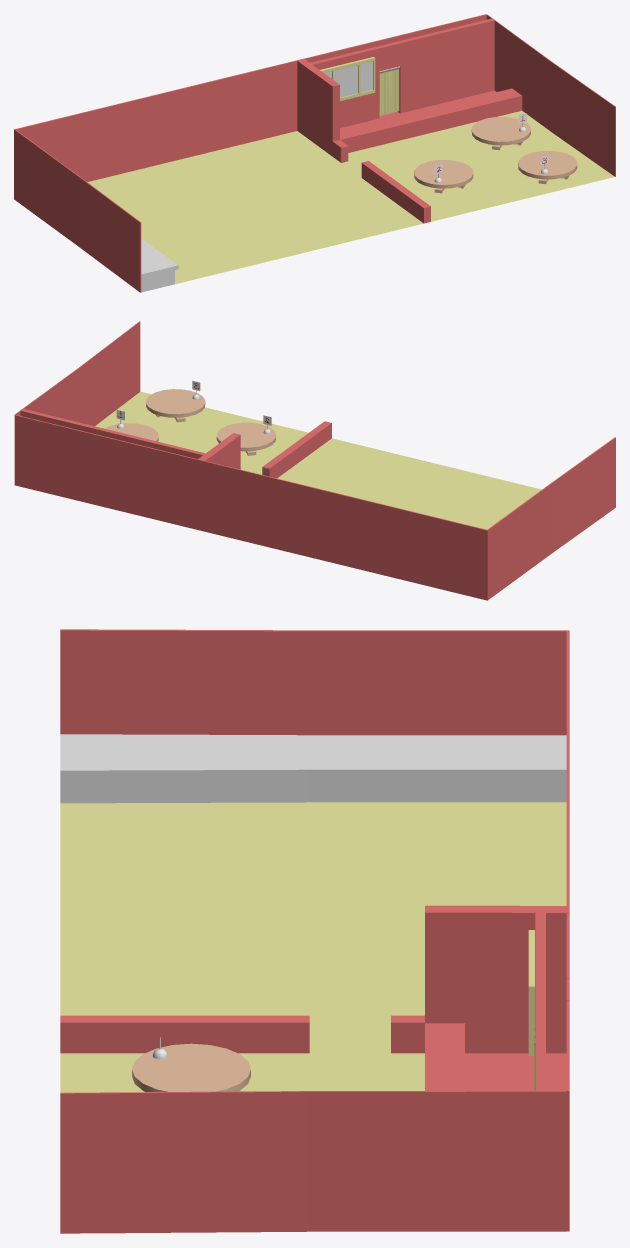
Rendered from overseasoned map 1.fbx.
3 renders of one model, top to bottom at view 1: azimuth 30°, elevation 25°; view 2: azimuth 150°, elevation 25°; view 3: azimuth 270°, elevation 25°, orthographic. The views are drawn at different scales.
Visible parts, largest first — view 1: pCube3, pCylinder3, pCylinder4, pCylinder5, pPlane2; view 2: pCube3, pCylinder5, pCylinder4, pCylinder3; view 3: pCube3, pCylinder4.
Part boxes in pixels (x1,y1,x2,y2): pCube3: (14, 14, 615, 292); pCylinder3: (471, 116, 530, 150); pCylinder4: (414, 160, 473, 193); pCylinder5: (518, 150, 577, 184); pPlane2: (379, 68, 399, 115); pCube3: (14, 321, 615, 600); pCylinder5: (146, 389, 205, 422); pCylinder4: (216, 422, 275, 455); pCylinder3: (105, 423, 158, 441); pCube3: (60, 629, 569, 1233); pCylinder4: (132, 1043, 250, 1091).
Bounding box in the file's own units: 13260 × 1872 × 6147.
Materials: 9 (1 with a texture image).
